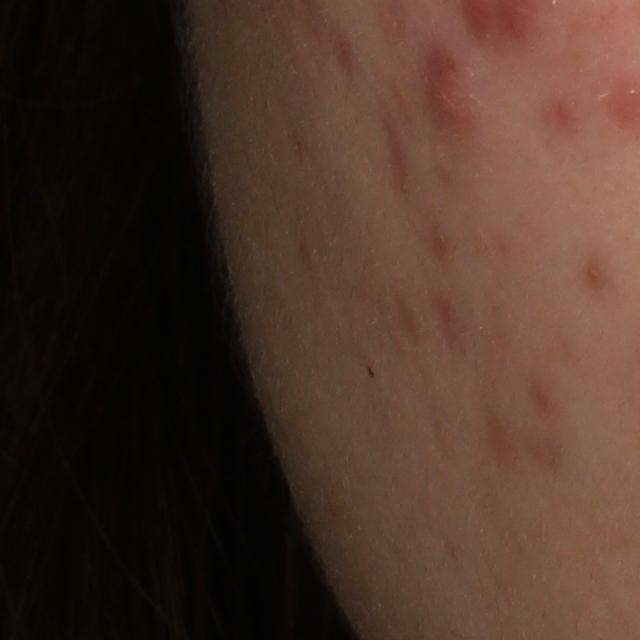papule: (425, 77, 486, 134)
